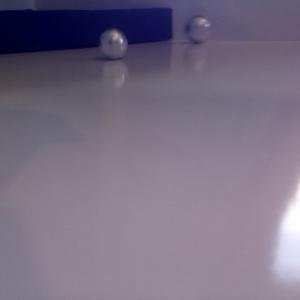zone: (1, 8, 172, 54)
